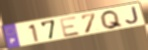1: (27, 23, 40, 43)
7: (81, 12, 98, 34), (40, 19, 57, 40)
E: (59, 15, 82, 38)
J: (125, 6, 141, 25)
Q: (99, 10, 125, 30)
